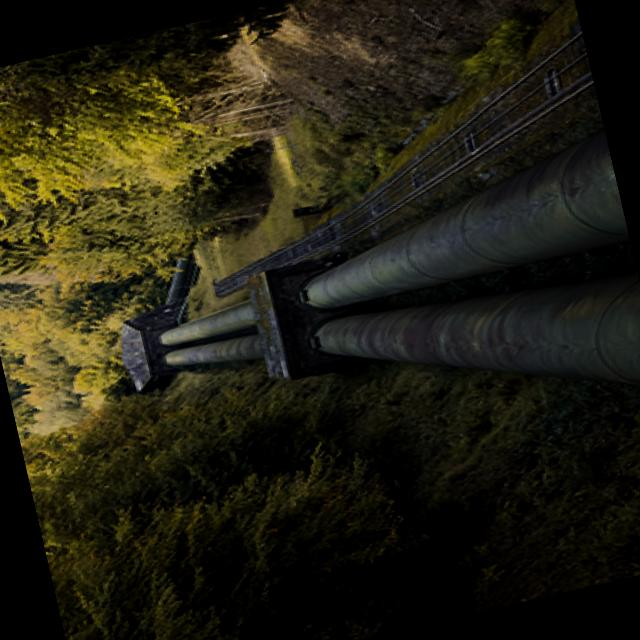gas: (402, 126, 632, 294), (461, 254, 640, 437), (304, 283, 488, 410), (288, 232, 428, 324), (143, 293, 278, 352), (153, 328, 278, 389)
